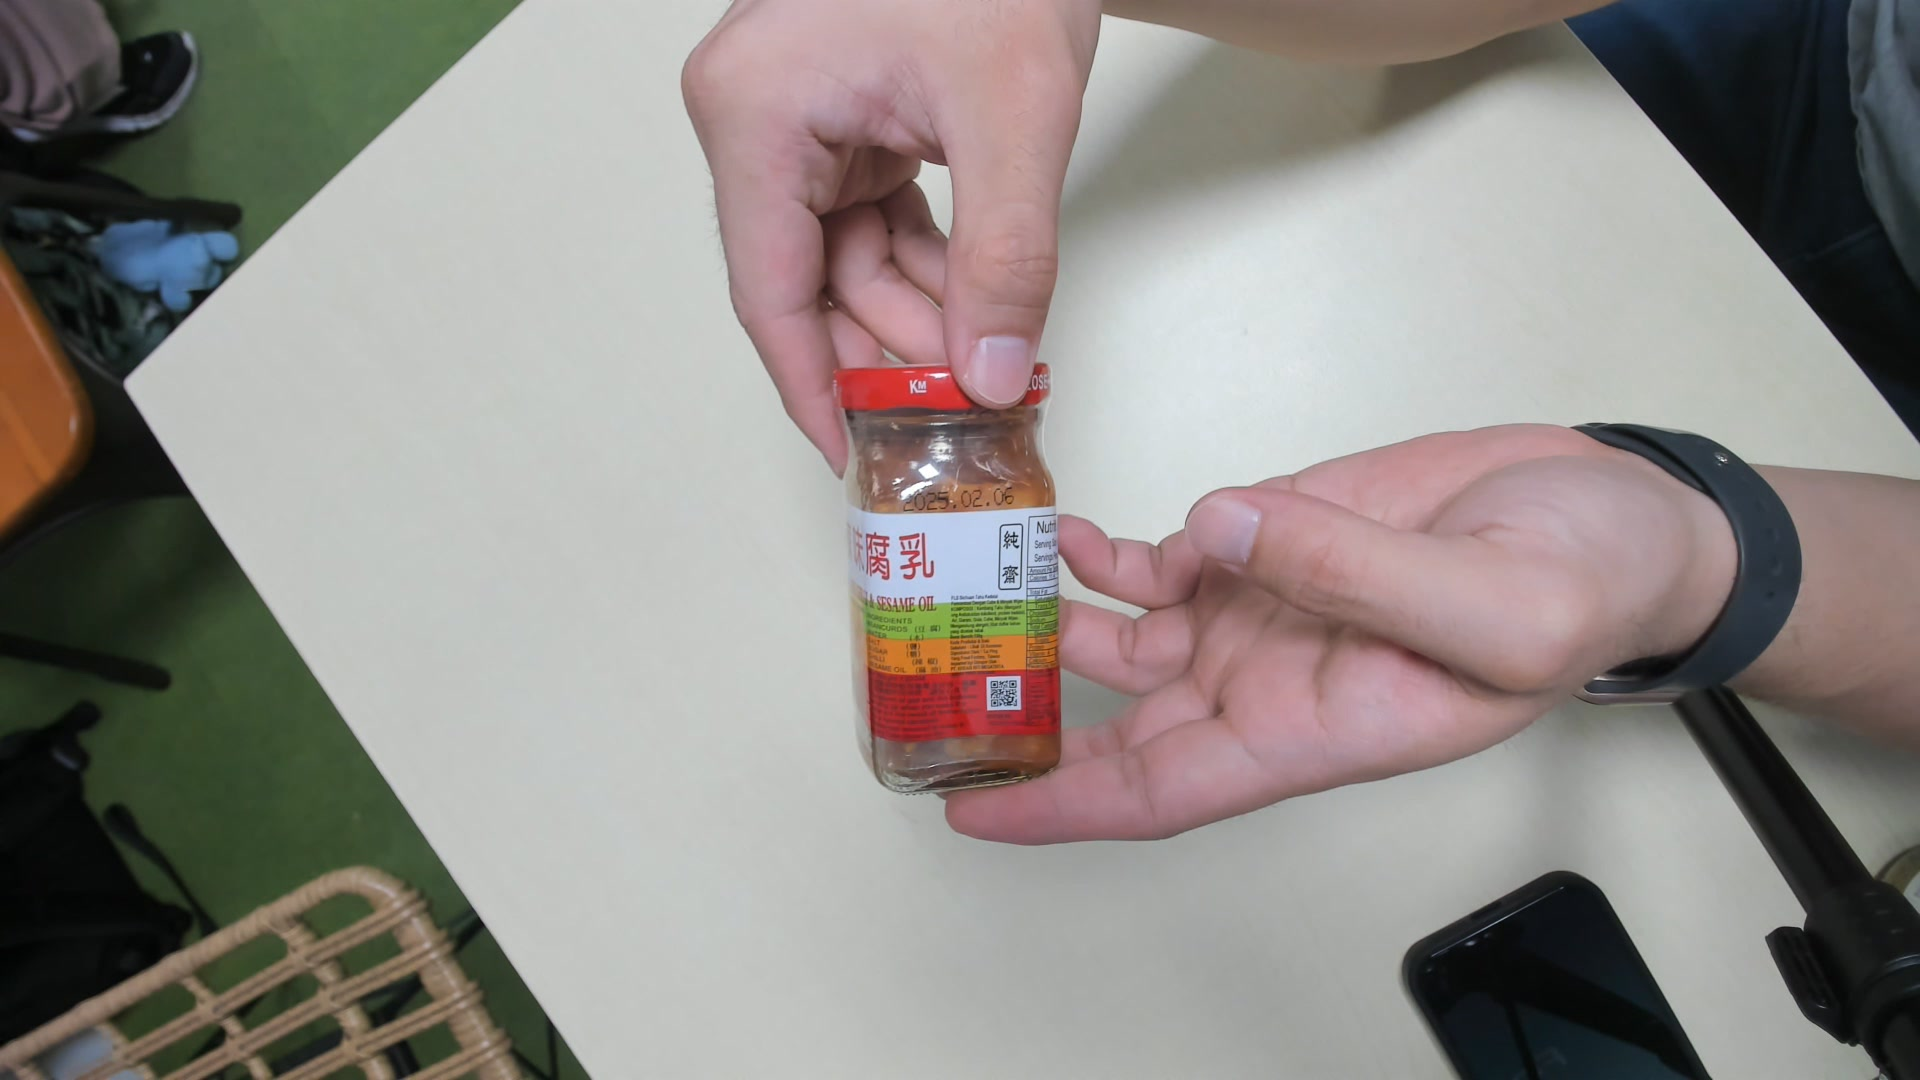OtherSauceDressing_100-199g_NonHalal_NonHealthy: (831, 355, 1065, 789)
